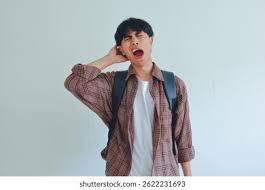Drowsy: (105, 14, 165, 78)
